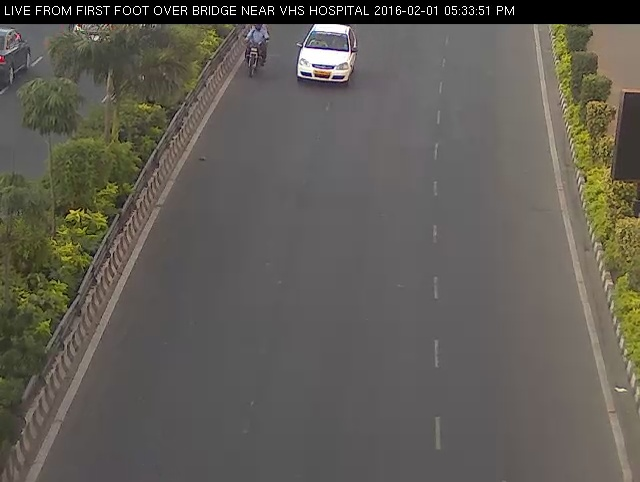Car: (290, 17, 368, 93)
Person: (236, 11, 276, 88)
